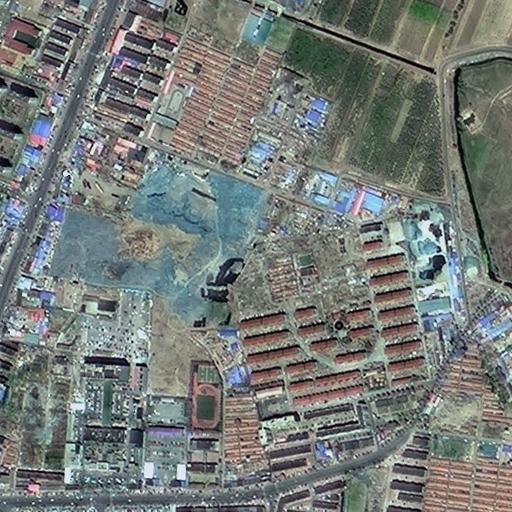school: (182, 360, 223, 486)
